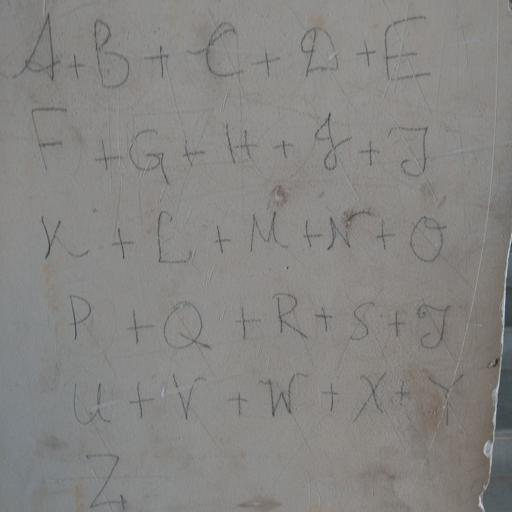stain: (12, 4, 497, 501)
